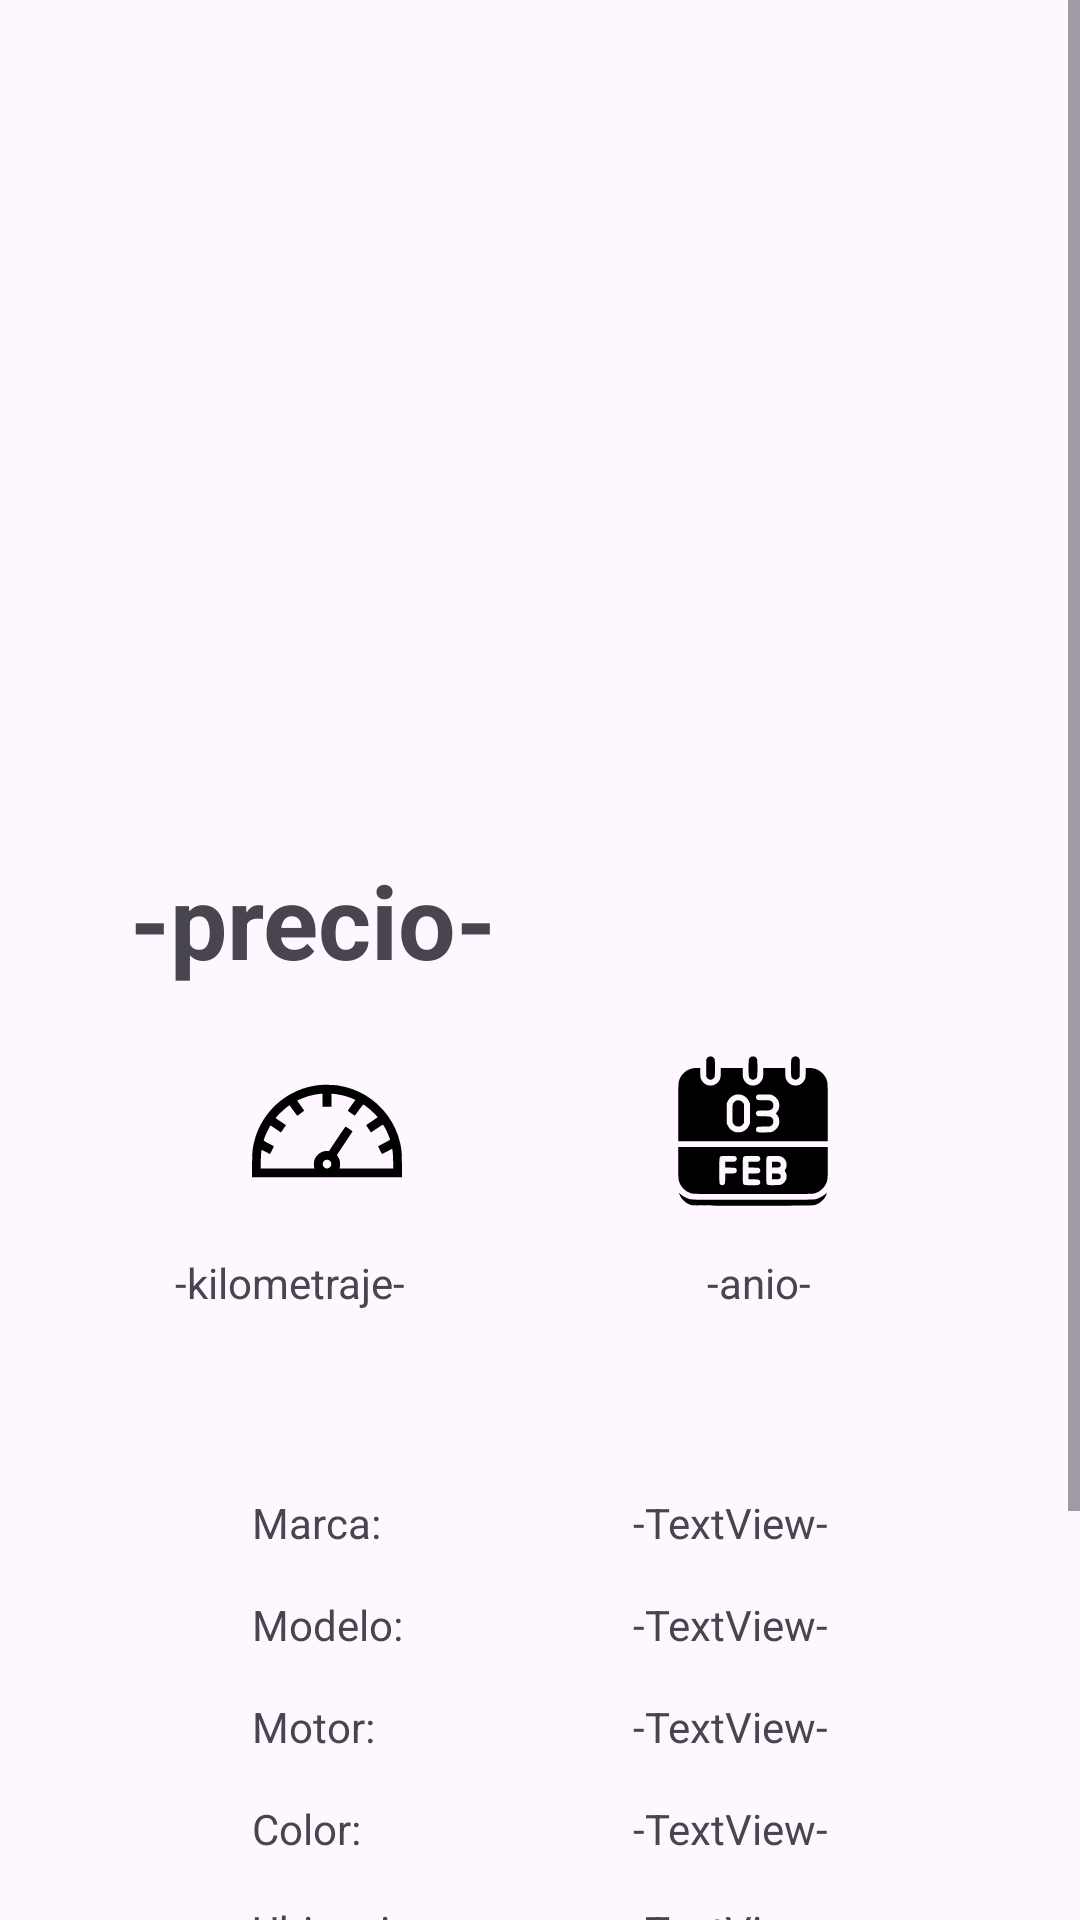

Named icons in this screenshot (1080*1920) and their centers, point (x, y):
calendar days: point (753, 1131)
